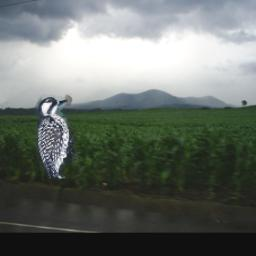Woodpecker: (36, 94, 78, 179)
